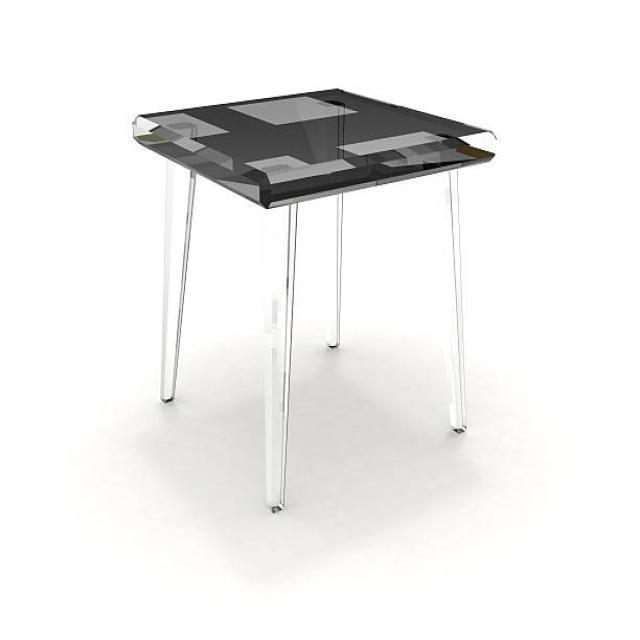table: (130, 86, 497, 513)
